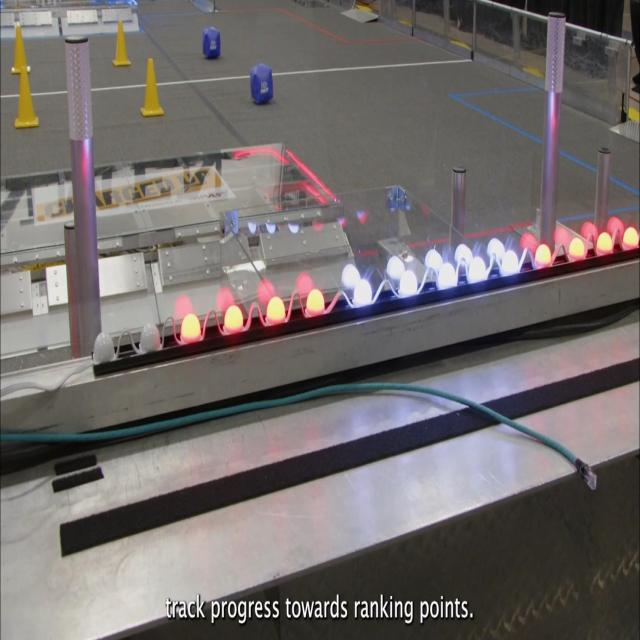frc_cone: (14, 65, 40, 131), (138, 56, 164, 118), (10, 24, 31, 76), (112, 21, 132, 68)
frc_cube: (250, 64, 274, 106), (201, 26, 222, 58)
